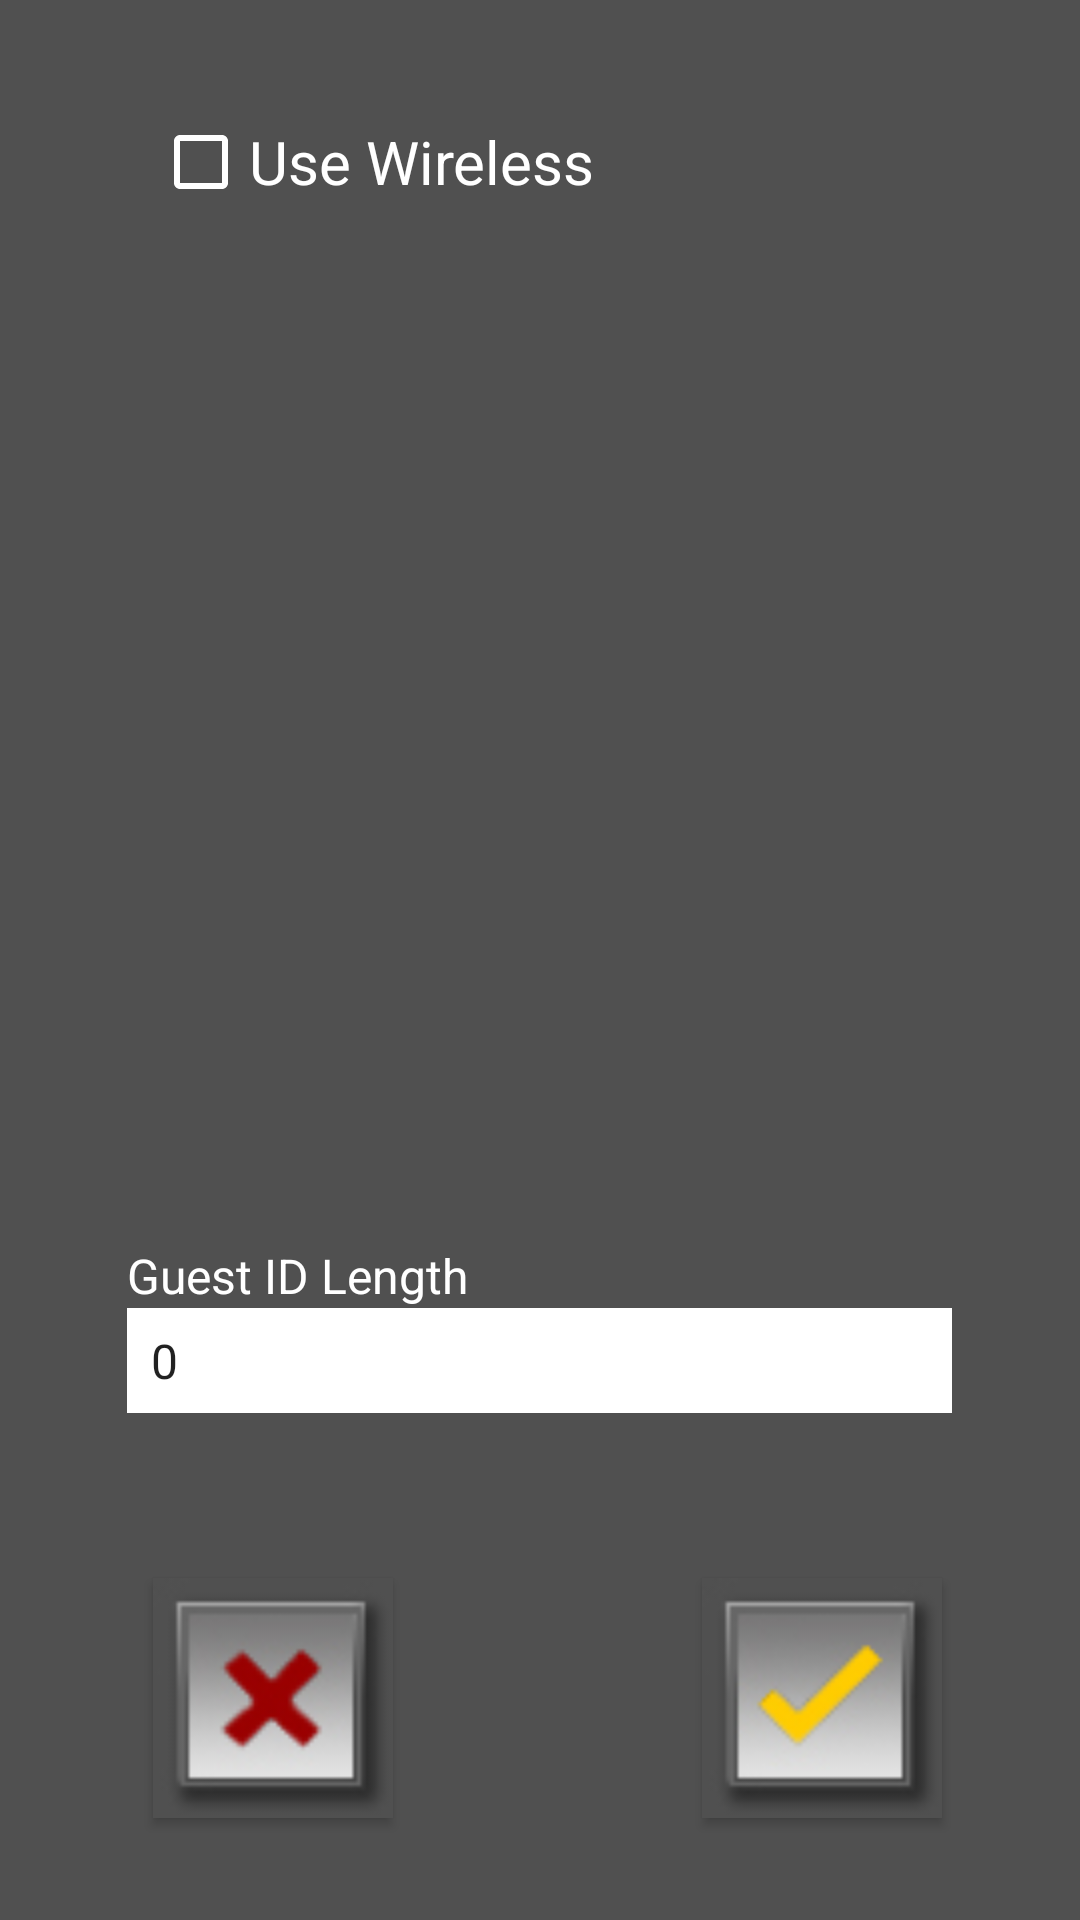

Icons on this 1080×1920 Android screen, each with the point to tap as (x=x, y=y):
checklup: (x=824, y=1700)
exitup: (x=275, y=1700)
